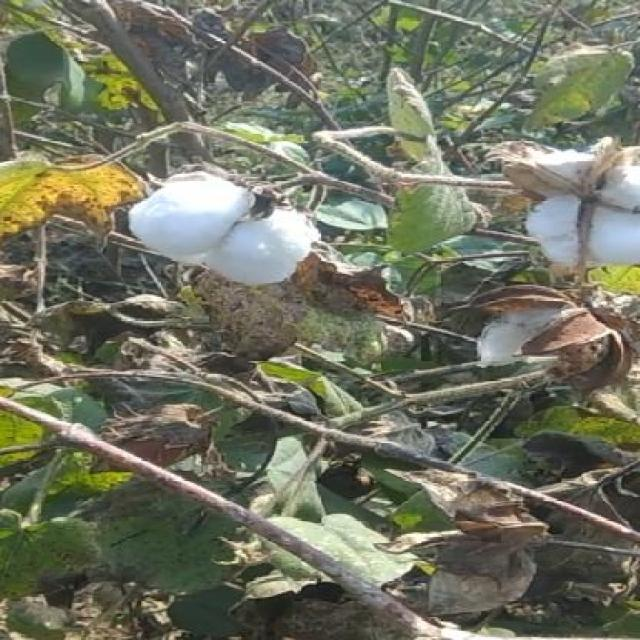cotton_ready: (96, 174, 349, 300), (488, 134, 640, 258)
